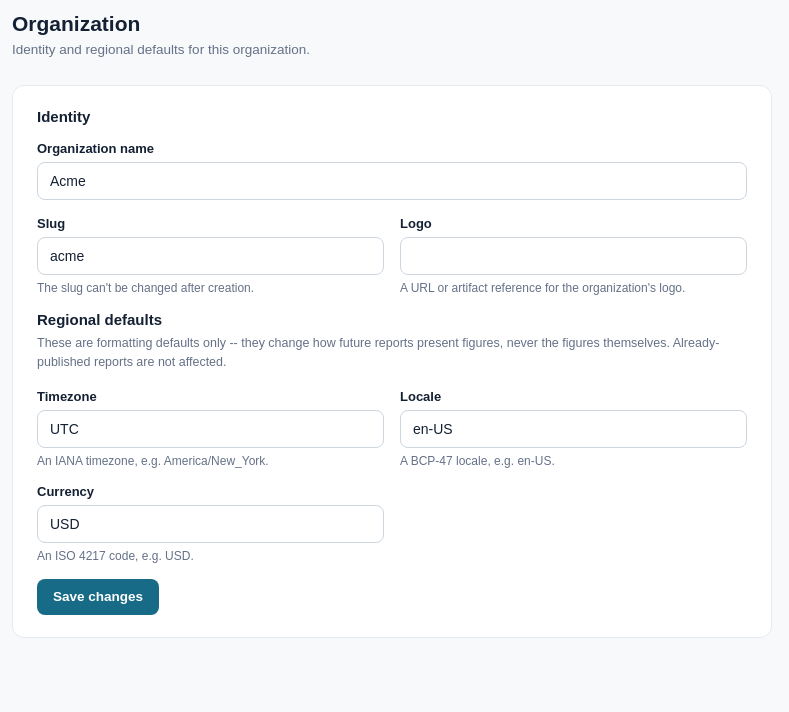
OrganizationSettings permission-based controls › lets an admin edit and save organization settings
Replace the text in the field labelled "Organization name" with "Acme Corp": (392, 181) 37,162 -> 747,200
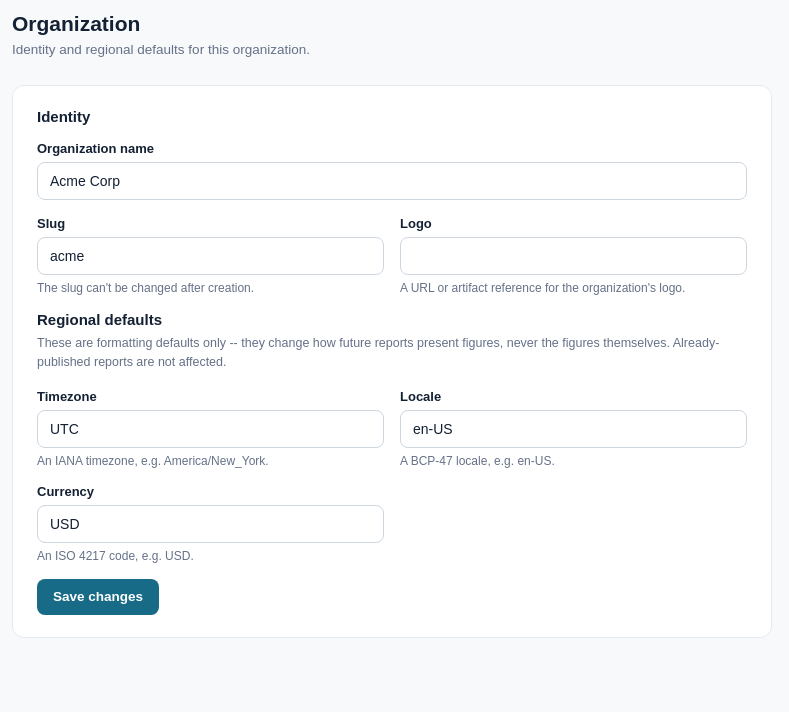
Click the button "Save changes": (98, 597) 37,579 -> 159,615
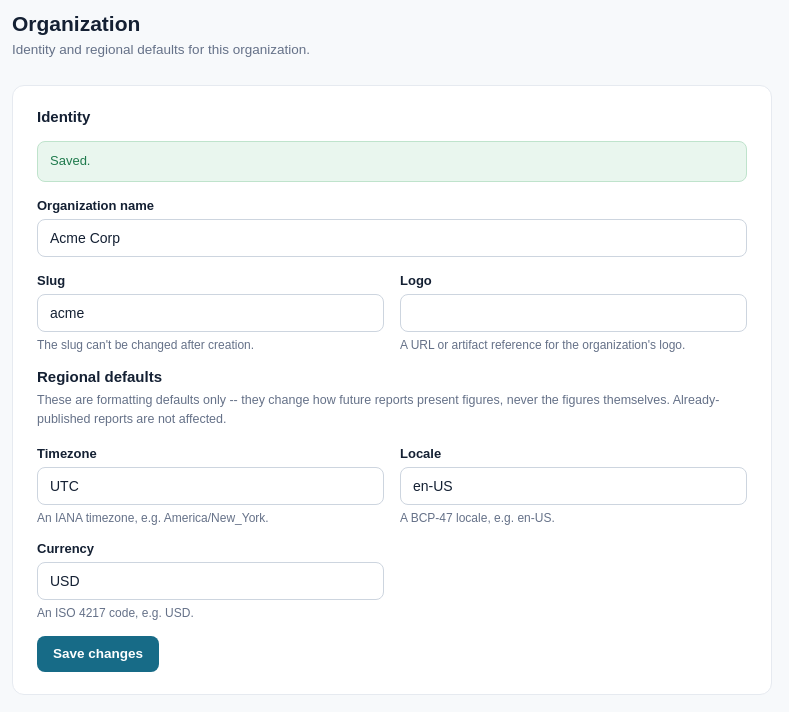
Now the text "Saved." is shown, box 37,141 -> 747,182
